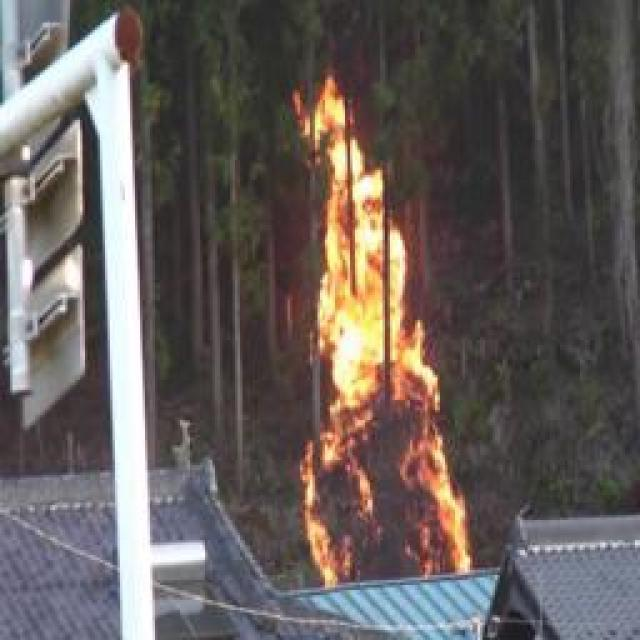Fire: (300, 99, 473, 582)
